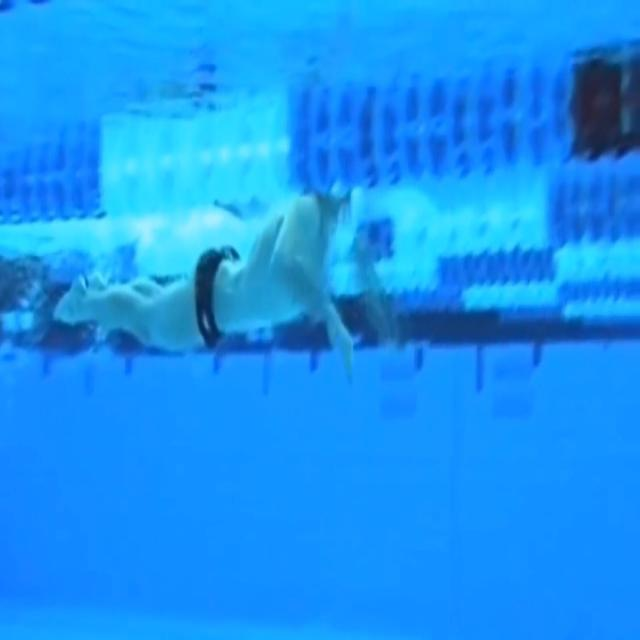Swimming: (52, 185, 400, 380)
